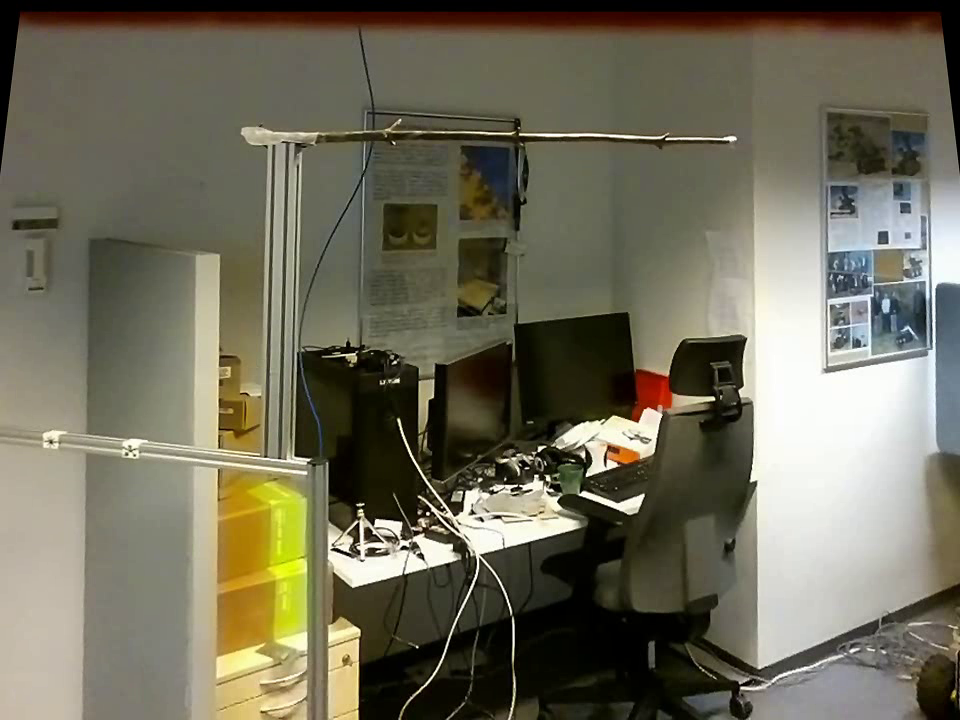aluminum_frame: (0, 421, 307, 480), (256, 144, 309, 458), (302, 450, 333, 717)
branch: (325, 114, 719, 156)
